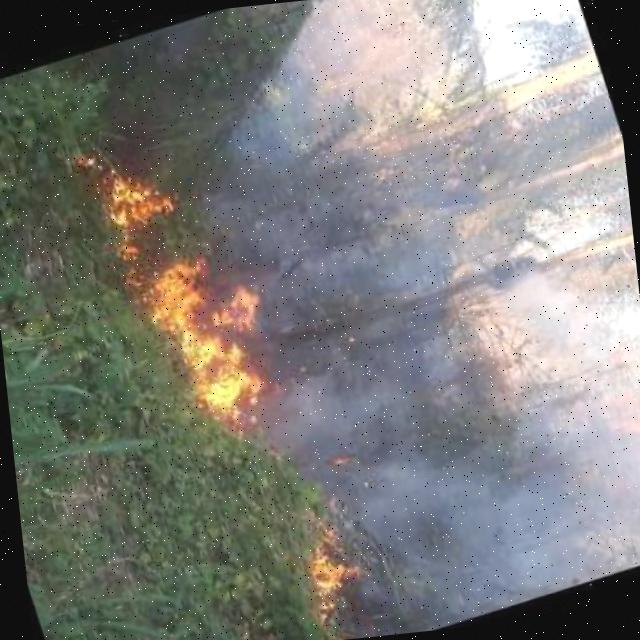fire: (75, 104, 307, 460), (294, 529, 383, 640)
